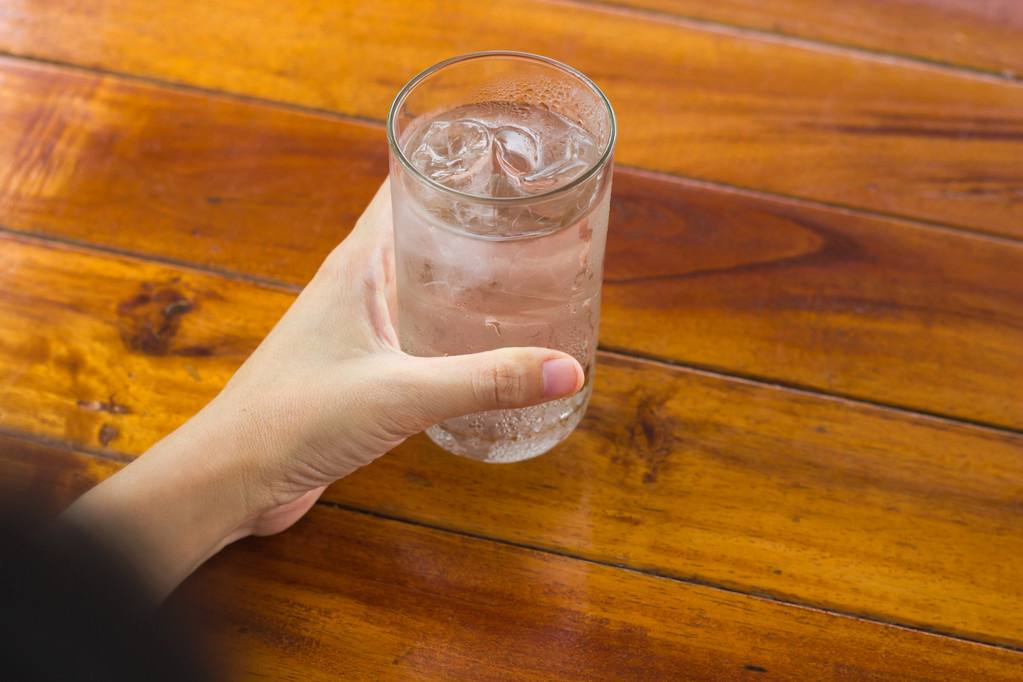no-phone: (163, 41, 629, 542)
